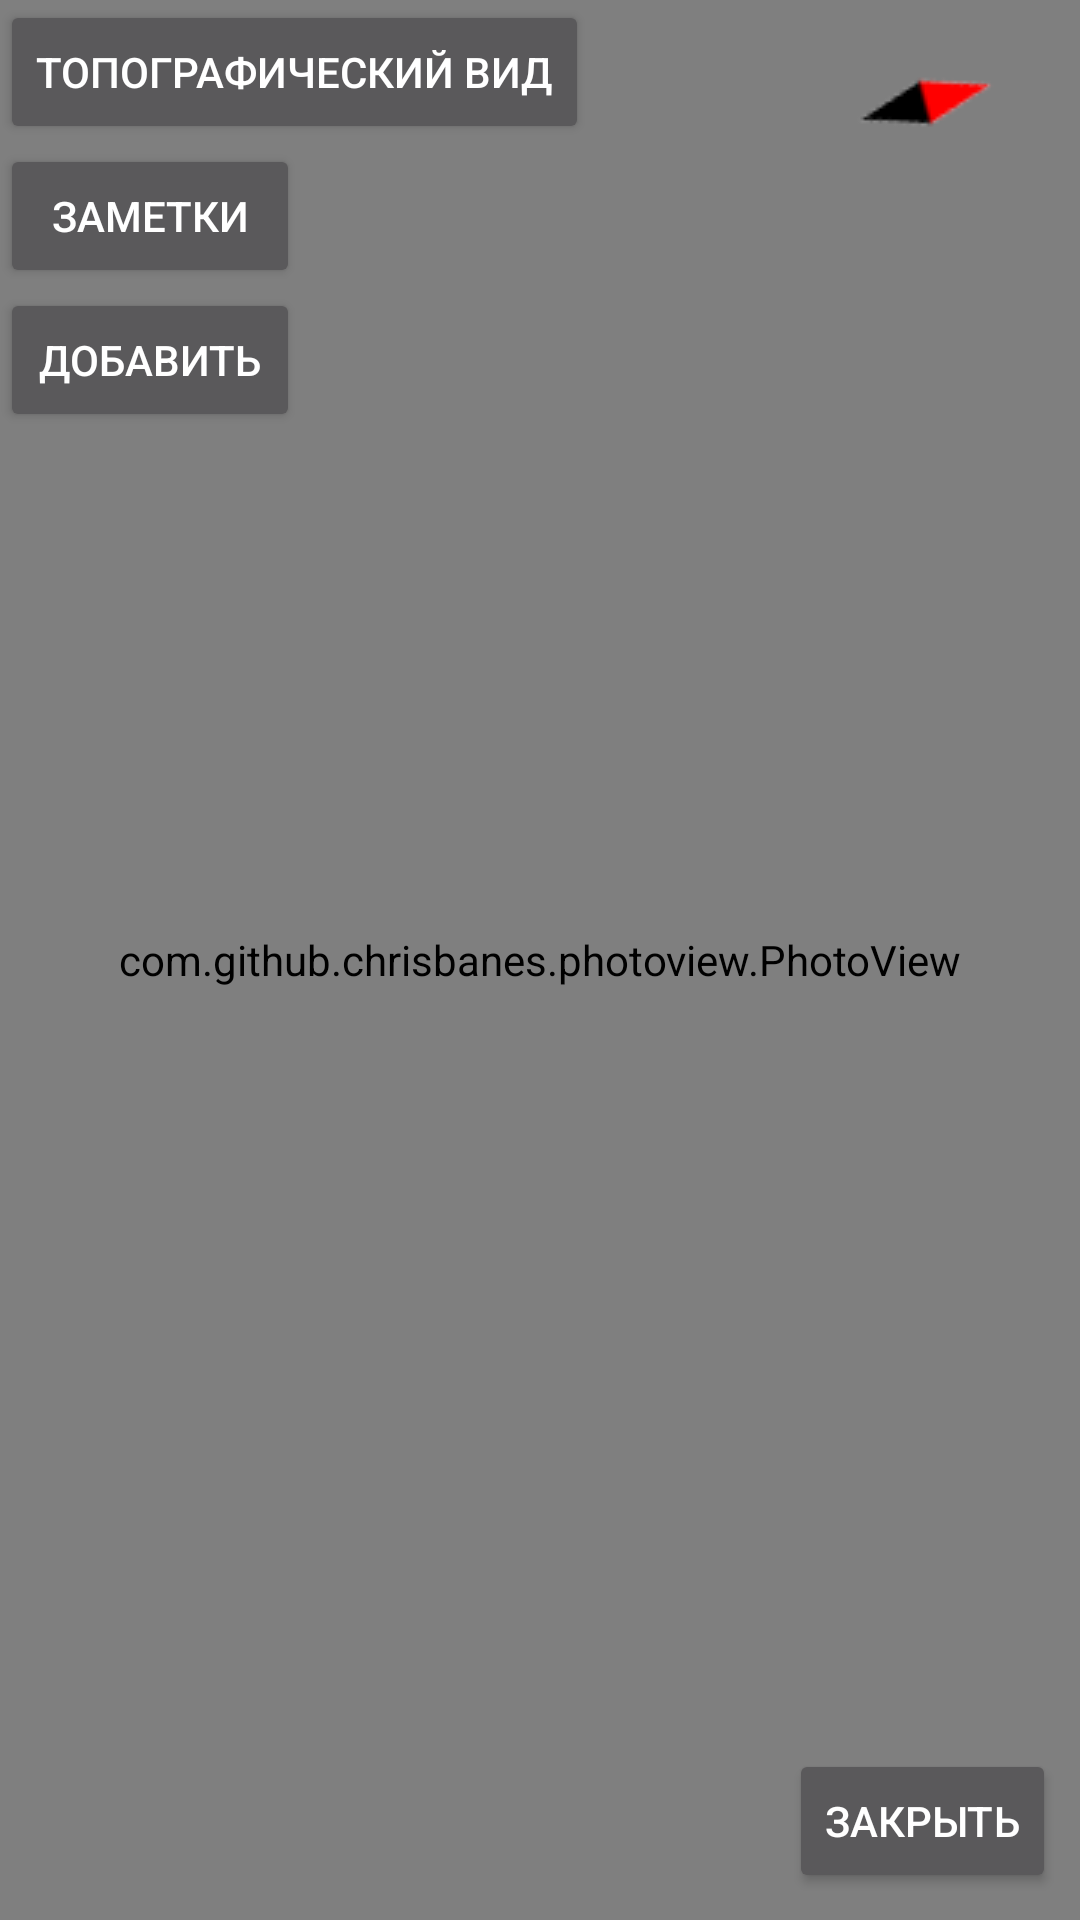

Screen size 1080×1920. Icon name, then its center in pixels as (x,y):
compass: (927,101)
